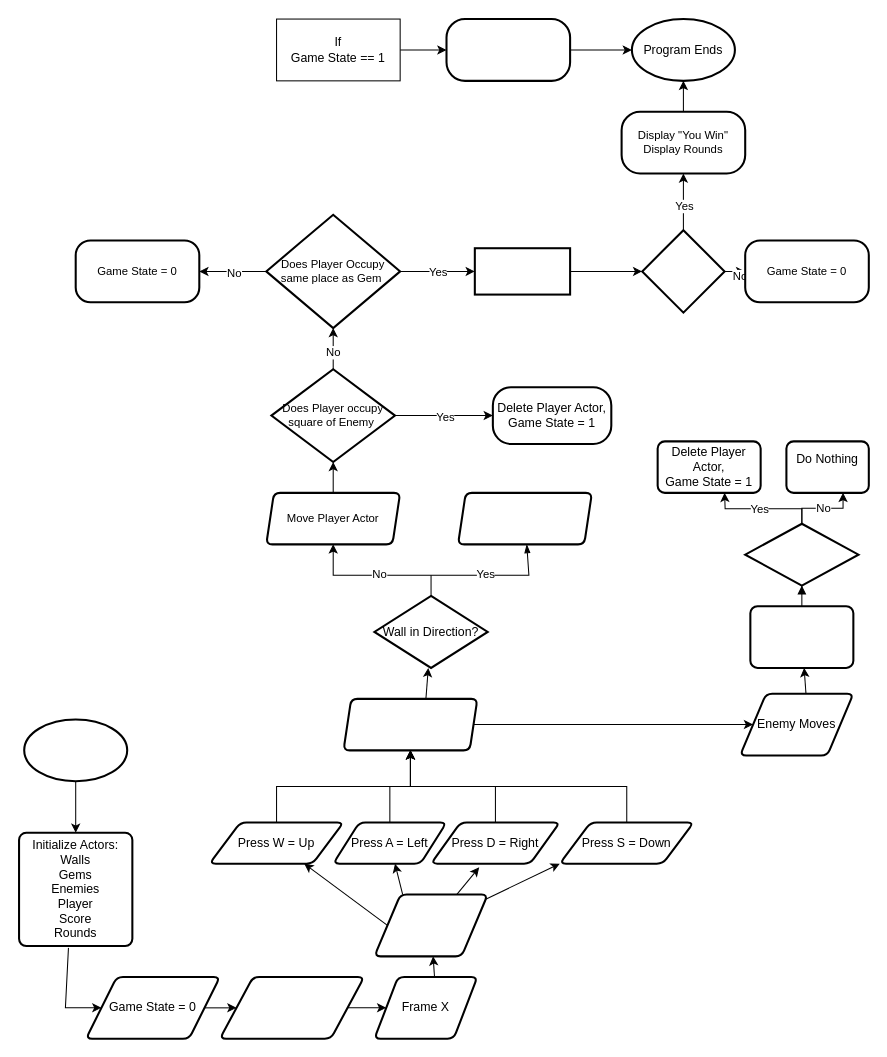
This 887x1057 diagram has some shape labels left out. Here are the shapes that lost their labels. From the top down, the centre of each, then its label:
point 508,49: Display "You Lose"
point 522,271: Score + 1 + Play Sound
point 683,271: Score == 3?
point 524,518: Don't Move Player Actor
point 801,554: Player on Tile?
point 801,636: Move Enemy Actors
point 410,724: Rounds++
point 75,750: Program Starts
point 430,925: Player Turn
point 291,1007: If Game State == 0
